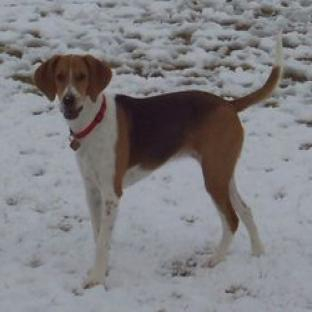Animal: (35, 35, 283, 286)
